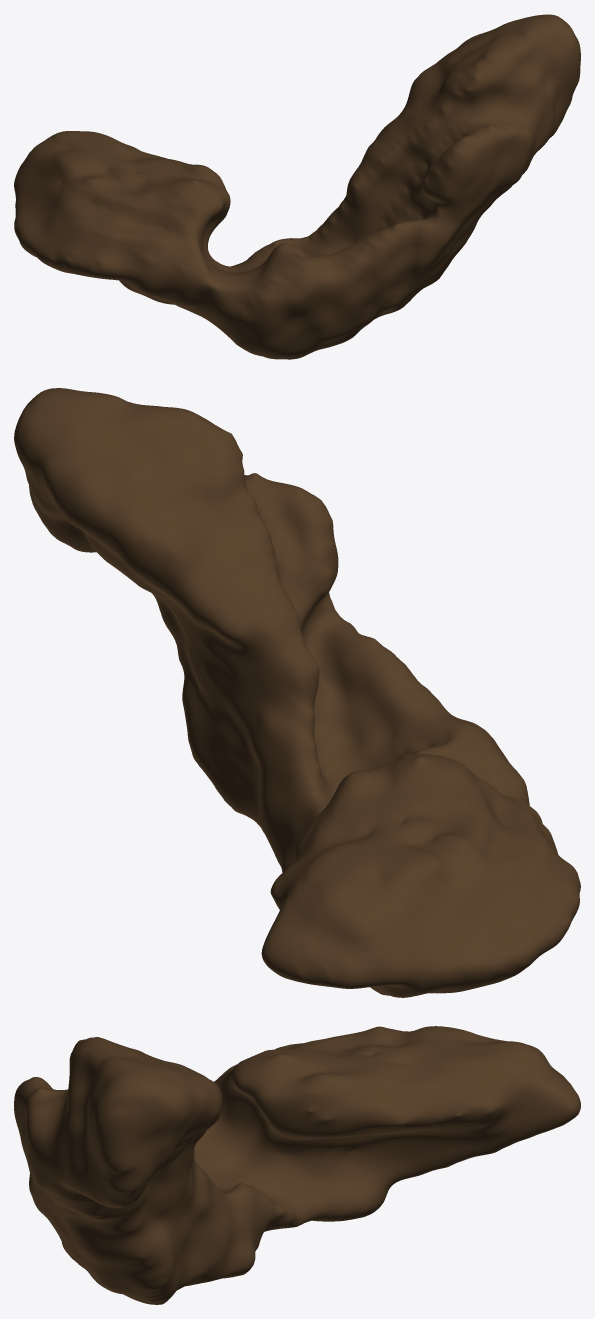
The model's file is pancreas.obj.
3 renders of one model, top to bottom at view 1: azimuth 30°, elevation 25°; view 2: azimuth 150°, elevation 25°; view 3: azimuth 270°, elevation 25°, orthographic. The views are drawn at different scales.
Parts seen in each view (by area): view 1: grp1; view 2: grp1; view 3: grp1.
Part boxes in pixels (bbox=[...]): grp1: bbox=[14, 14, 580, 359]; grp1: bbox=[14, 388, 580, 997]; grp1: bbox=[14, 1026, 580, 1304].
Bounding box in the file's own units: 125 × 73.75 × 106.
